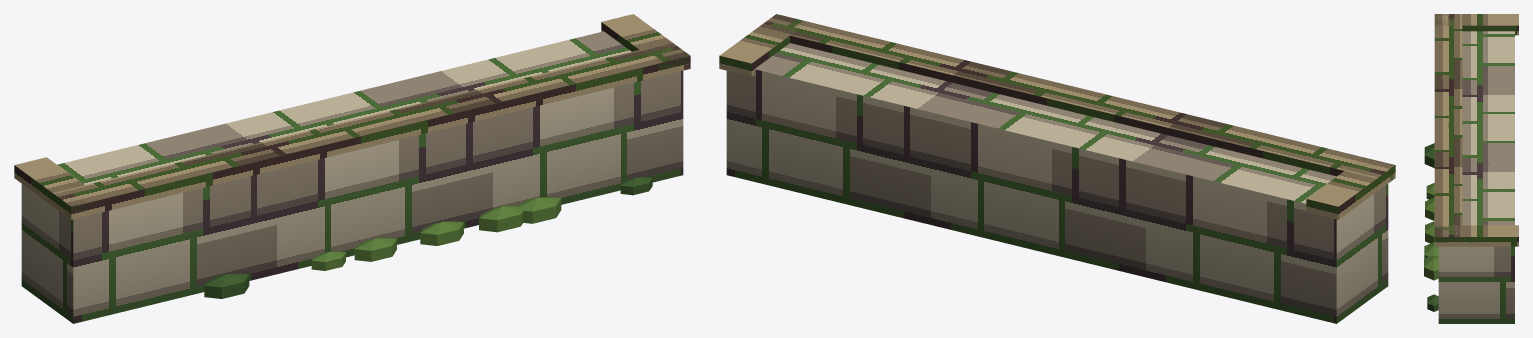
File: scene_cross6w.glb
3 views of the same model, side by side, from view 1: azimuth 30°, elevation 25°; view 2: azimuth 150°, elevation 25°; view 3: azimuth 270°, elevation 25° (orthographic). The views are drawn at different scales.
Visible parts, largest first — view 1: scene_cross6w; view 2: scene_cross6w; view 3: scene_cross6w.
Part boxes in pixels (bbox=[...]): scene_cross6w: bbox=[14, 14, 690, 323]; scene_cross6w: bbox=[719, 14, 1395, 323]; scene_cross6w: bbox=[1424, 14, 1518, 323].
Bounding box in the file's own units: 6.9 × 1.37 × 1.24.
Materials: 2 (1 with a texture image).
